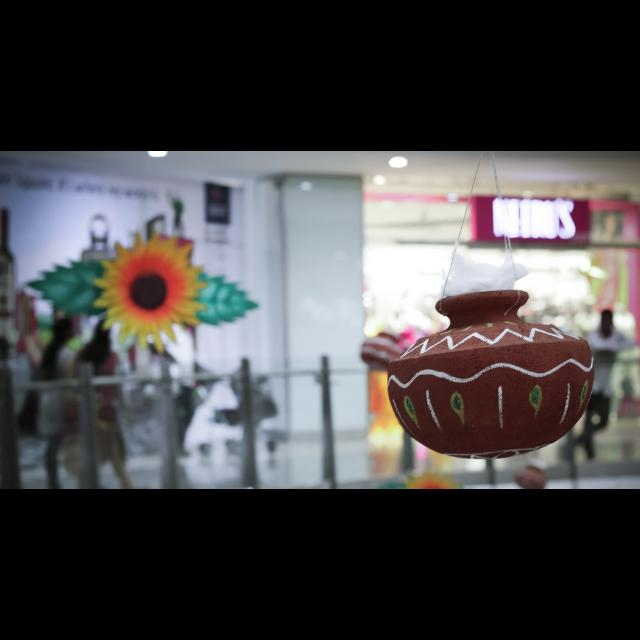Flower: (90, 223, 202, 343)
